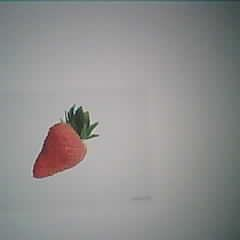straw-ripe: (31, 119, 88, 177)
